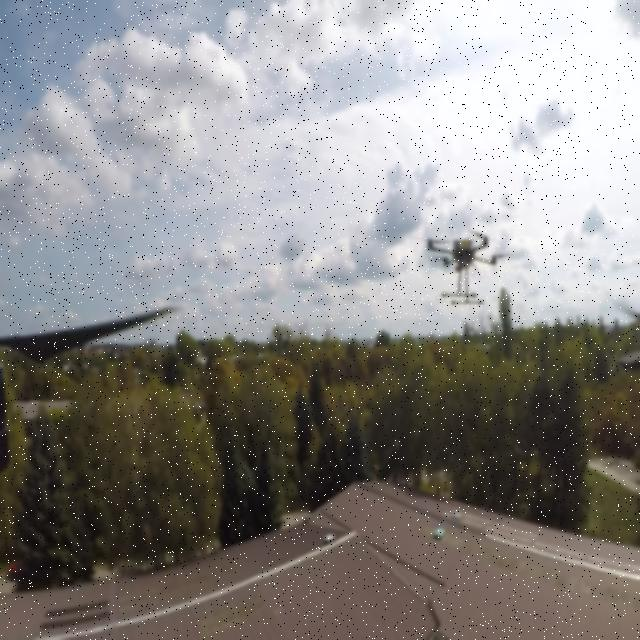UAV: (420, 220, 512, 311)
